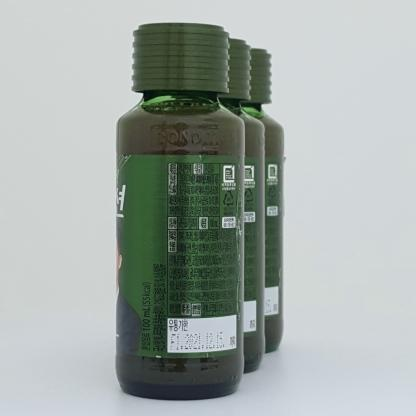CJ-----100ML: (115, 22, 245, 400)
